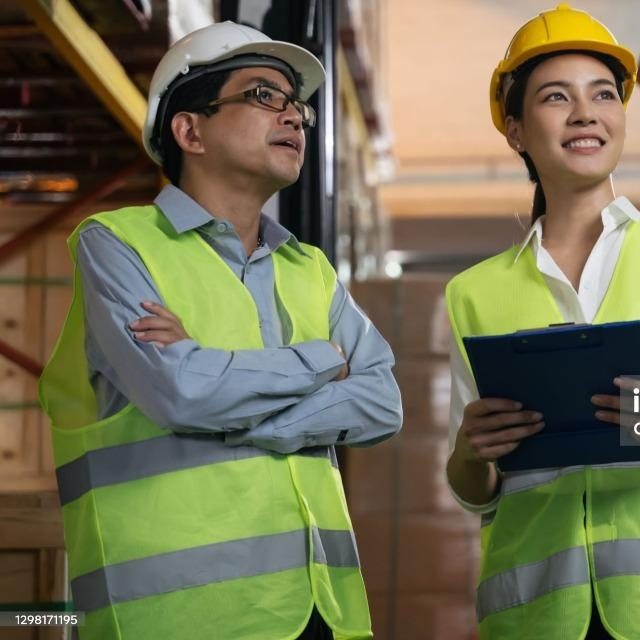Con_Casco: (143, 16, 331, 192), (487, 3, 640, 184)
Con_Chaleco: (64, 204, 372, 635), (450, 209, 640, 635)
